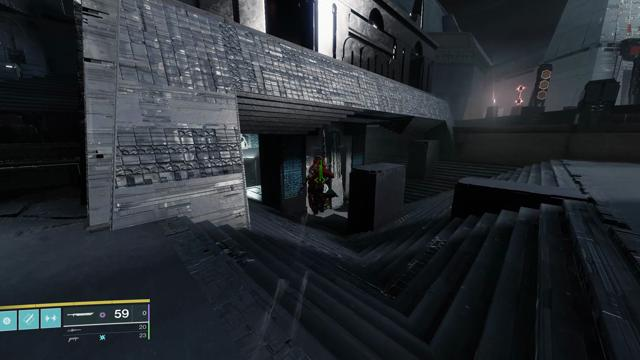stop: (627, 42, 640, 59)
